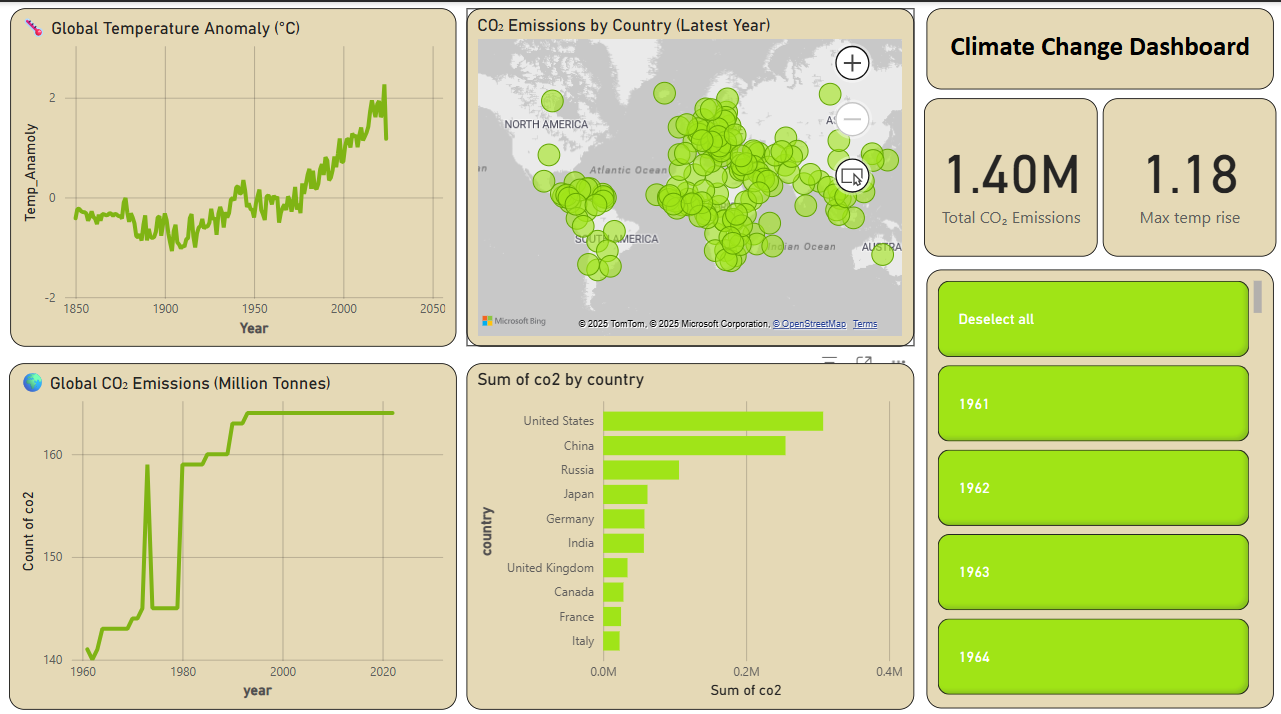

Layout of this report page (visuals, bound fields, positions):
{"tool":"powerbi","page":{"name":"Page 1","canvas":[1280,720],"ordinal":0},"visuals":[{"type":"lineChart","title":"🌡️ Global Temperature Anomaly (°C)","fields":{"Category":["Temp_Data.Year"],"Y":["Sum(Temp_Data.Temp_Anamoly)"]},"box":[11.2,6.2,444.1,337.1],"z":0},{"type":"lineChart","title":"🌍 Global CO₂ Emissions (Million Tonnes)","fields":{"Category":["Co2_Data.year"],"Y":["CountNonNull(Co2_Data.co2)"]},"box":[10,359.5,445.3,344.6],"z":1000},{"type":"map","title":"CO₂ Emissions by Country (Latest Year)","fields":{"Category":["Co2_Data.country"],"Size":["Max(Co2_Data.year)"]},"box":[465.2,6.2,445.3,337.1],"z":2000},{"type":"clusteredBarChart","fields":{"Y":["CountNonNull(Co2_Data.country)"],"Category":["Co2_Data.co2"]},"box":[465.2,359.5,445.3,344.6],"z":3000},{"type":"advancedSlicerVisual","title":"Year","fields":{"Values":["Co2_Data.year"]},"box":[923,374.4,345.8,328.4],"z":4000},{"type":"textbox","box":[923,6.2,345.8,80.9],"z":4001},{"type":"card","box":[923,104.5,201.5,202.8],"z":4002}]}

Visuals, with their boxes in screenshot pixels (x1, y1, x2, y2), scaled from the page's 1280x720 canvas onto the 1281x714 screenshot:
"🌡️ Global Temperature Anomaly (°C)" lineChart: [11,6,456,340]
"🌍 Global CO₂ Emissions (Million Tonnes)" lineChart: [10,357,456,698]
"CO₂ Emissions by Country (Latest Year)" map: [466,6,911,340]
clusteredBarChart - CountNonNull(Co2_Data.country) x Co2_Data.co2: [466,357,911,698]
"Year" advancedSlicerVisual: [924,371,1270,697]
textbox: [924,6,1270,86]
card: [924,104,1125,305]
